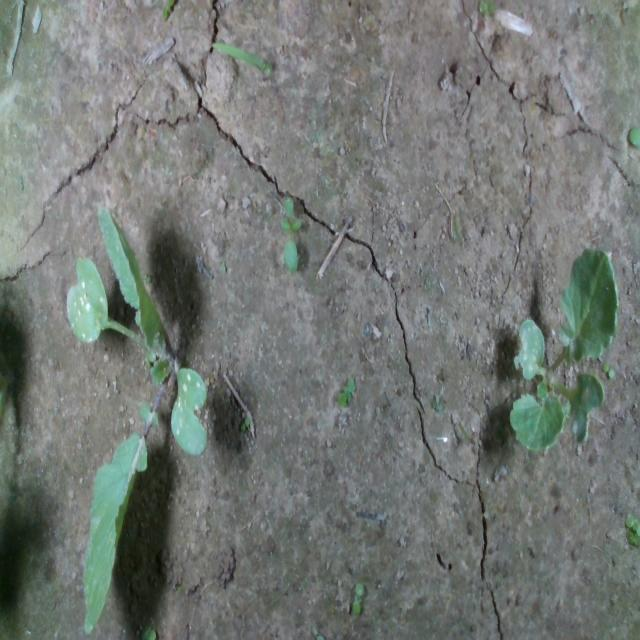weed: (278, 196, 302, 274), (337, 376, 355, 408), (352, 580, 364, 616), (601, 361, 615, 379), (240, 416, 250, 431)
